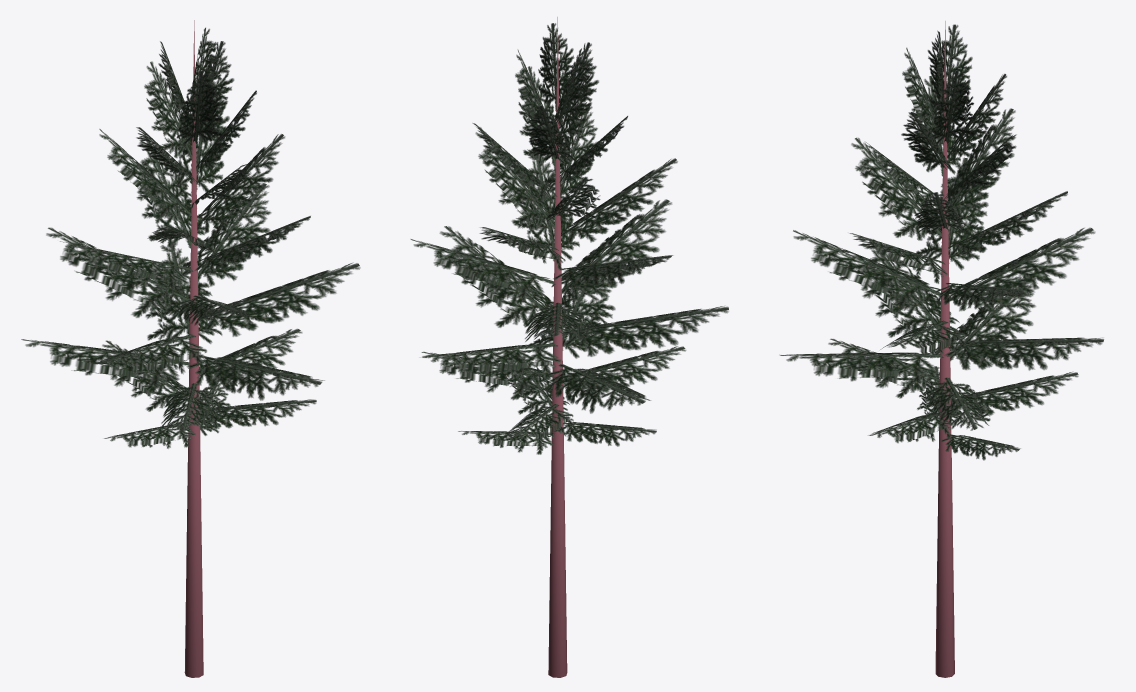
The model's file is treetall.glb.
The picture shows the model from 3 angles, left to right: view 1: azimuth 30°, elevation 25°; view 2: azimuth 150°, elevation 25°; view 3: azimuth 270°, elevation 25°; orthographic projection.
Visible parts, largest first — view 1: Trunk, Branch1.001, Branch1.002, Branch1.015, Branch1.005, Branch1.006, Branch1, Branch1.018, Branch1.020, Branch1.007, Branch1.016, Branch1.021 (+18 smaller); view 2: Trunk, Branch1.007, Branch1.014, Branch1.001, Branch1.015, Branch1, Branch1.019, Branch1.006, Branch1.020, Branch1.017, Branch1.005, Branch1.008 (+18 smaller); view 3: Trunk, Branch1.002, Branch1.014, Branch1.005, Branch1, Branch1.019, Branch1.006, Branch1.007, Branch1.021, Branch1.016, Branch1.010, Branch1.009 (+18 smaller).
Part boxes in pixels (<box>): Trunk: <box>184,20,203,677</box>; Branch1.001: <box>199,262,360,336</box>; Branch1.002: <box>46,227,190,317</box>; Branch1.015: <box>182,183,271,286</box>; Branch1.005: <box>186,355,324,400</box>; Branch1.006: <box>21,339,190,394</box>; Branch1: <box>145,242,222,343</box>; Branch1.018: <box>136,138,205,248</box>; Branch1.020: <box>197,134,285,233</box>; Branch1.007: <box>95,334,206,374</box>; Branch1.016: <box>60,241,192,294</box>; Branch1.021: <box>99,129,191,221</box>; Trunk: <box>548,17,567,677</box>; Branch1.007: <box>562,306,728,356</box>; Branch1.014: <box>551,199,672,301</box>; Branch1.001: <box>439,226,553,327</box>; Branch1.015: <box>410,239,555,305</box>; Branch1: <box>420,343,561,380</box>; Branch1.019: <box>561,158,677,243</box>; Branch1.006: <box>545,364,650,413</box>; Branch1.020: <box>475,127,554,230</box>; Branch1.017: <box>516,154,579,261</box>; Branch1.005: <box>529,278,615,358</box>; Branch1.008: <box>563,346,686,395</box>; Trunk: <box>935,21,954,677</box>; Branch1.002: <box>949,227,1095,313</box>; Branch1.014: <box>793,230,940,313</box>; Branch1.005: <box>780,352,943,390</box>; Branch1: <box>944,337,1103,370</box>; Branch1.019: <box>851,137,950,240</box>; Branch1.006: <box>930,277,1036,369</box>; Branch1.007: <box>861,238,959,337</box>; Branch1.021: <box>948,108,1015,217</box>; Branch1.016: <box>916,157,988,270</box>; Branch1.010: <box>924,377,990,430</box>; Branch1.009: <box>951,371,1078,417</box>.
Bounding box in the file's own units: 8.33 × 17.39 × 8.5.
Materials: 2 (1 with a texture image).
